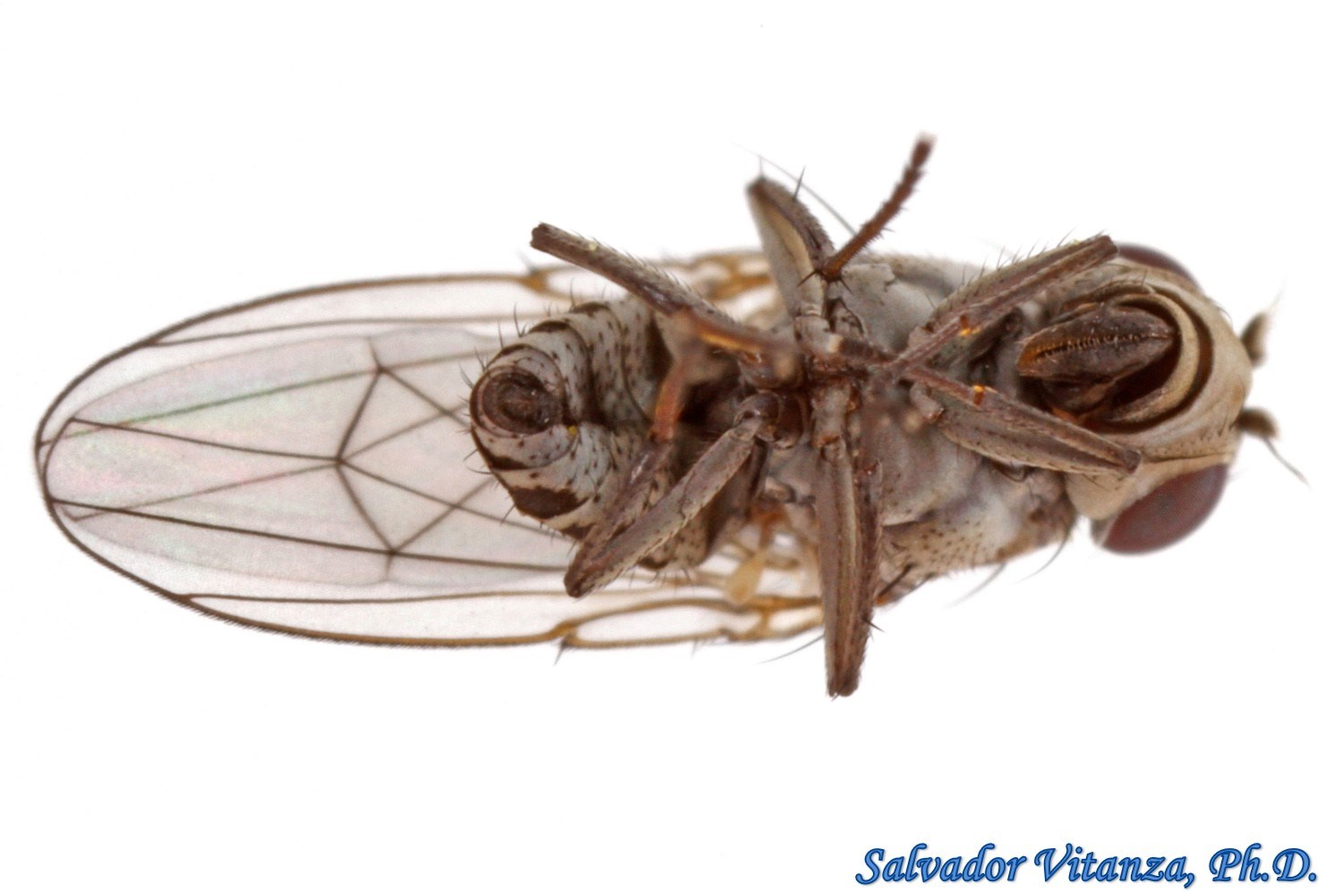Ephydridae: (15, 132, 1312, 700)
